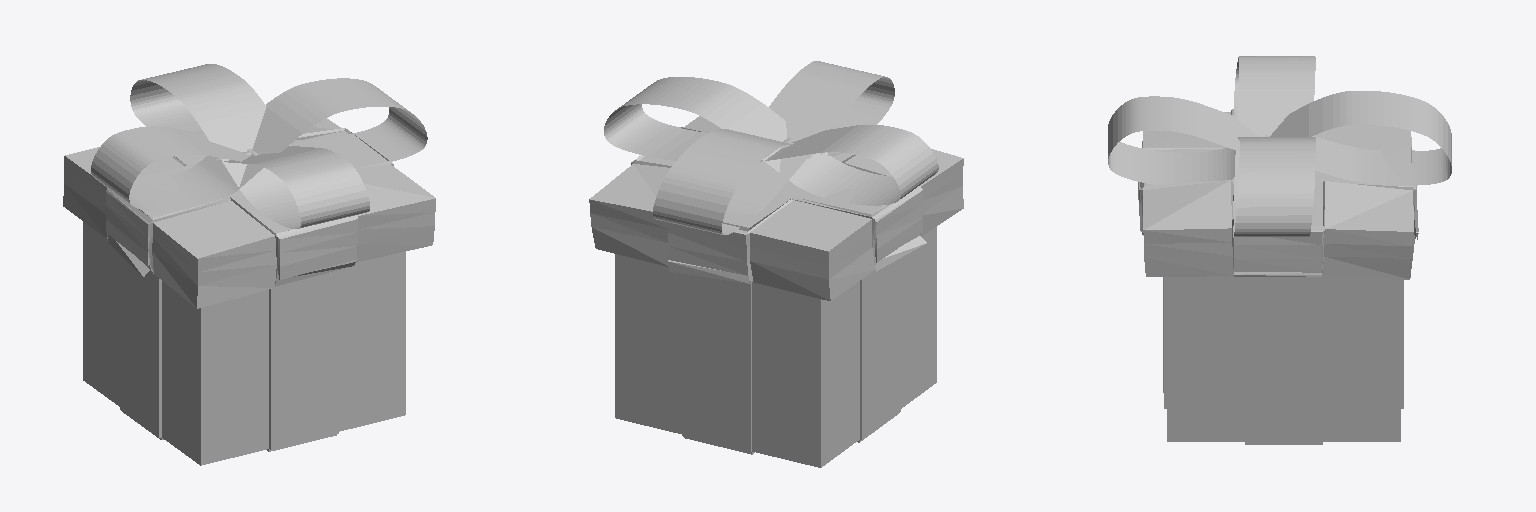
The model's file is gift_0.obj.
3 views of the same model, side by side, from view 1: azimuth 30°, elevation 25°; view 2: azimuth 150°, elevation 25°; view 3: azimuth 270°, elevation 25° (orthographic).
Visible parts, largest first — view 1: Gift_1; view 2: Gift_1; view 3: Gift_1.
Part boxes in pixels (left/top/right/bottom): Gift_1: left=63, top=64, right=435, bottom=465; Gift_1: left=589, top=61, right=963, bottom=467; Gift_1: left=1108, top=56, right=1451, bottom=444.
Bounding box in the file's own units: 0.4176 × 0.3857 × 0.4177.